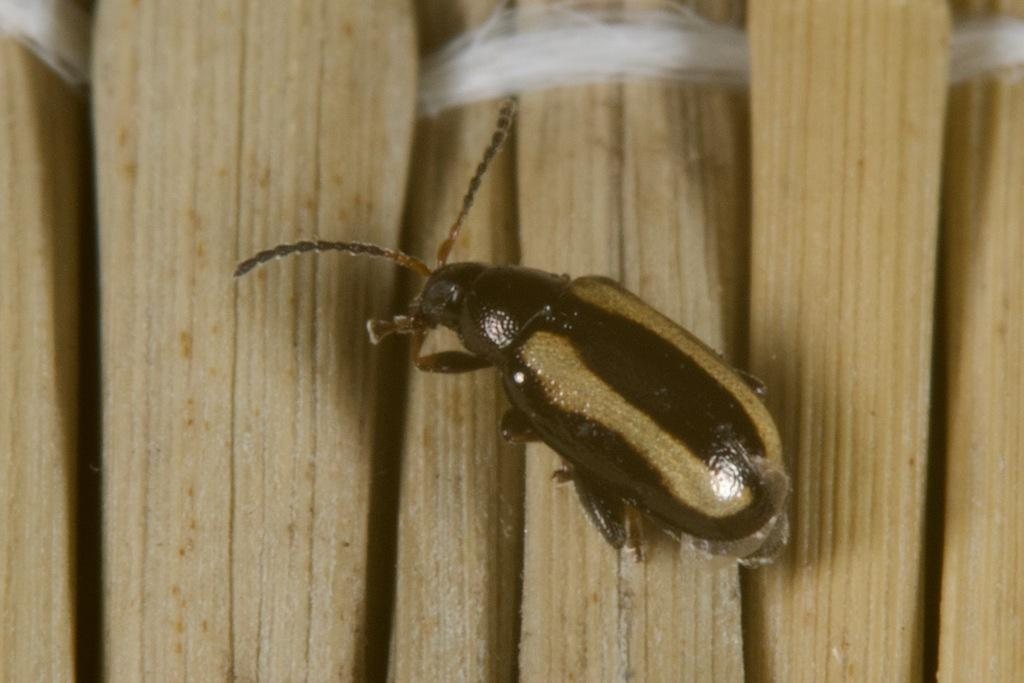flea_beetle: (202, 33, 899, 629)
